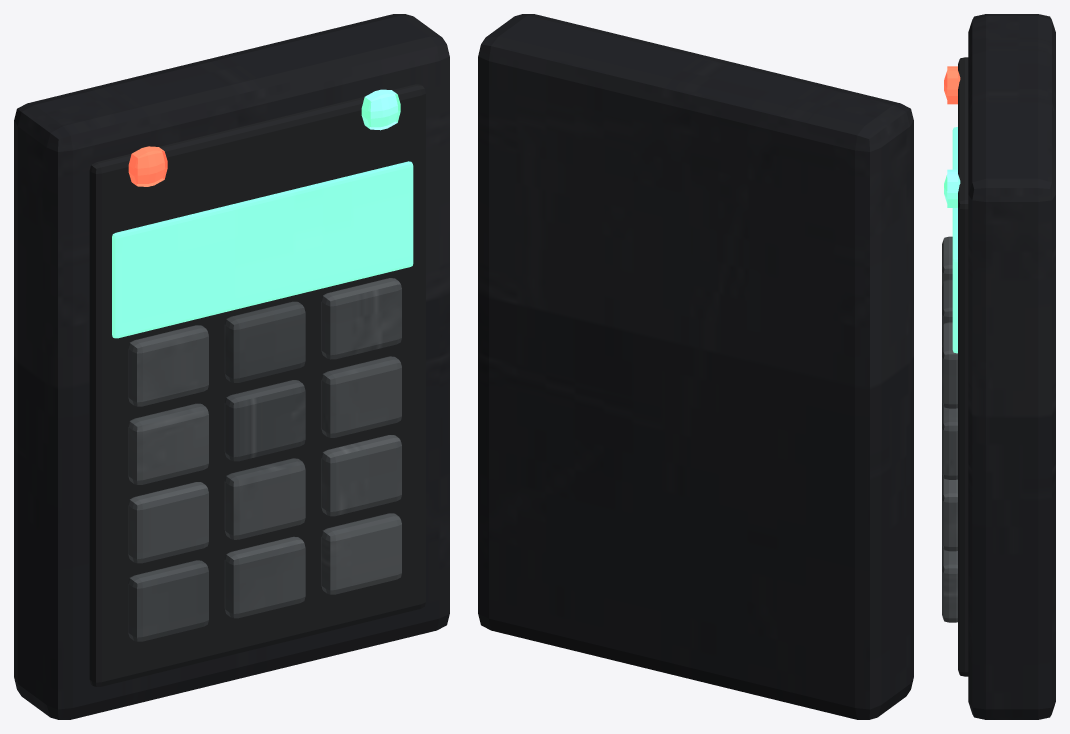
The model's file is keypad_panel.glb.
3 renders of one model, left to right at view 1: azimuth 30°, elevation 25°; view 2: azimuth 150°, elevation 25°; view 3: azimuth 270°, elevation 25°, orthographic. The views are drawn at different scales.
Parts seen in each view (by area): view 1: body; view 2: body; view 3: body.
Part boxes in pixels (x1,y1,x2,y2): body: (14,14,449,719); body: (478,14,913,719); body: (942,14,1055,719).
Bounding box in the file's own units: 0.24 × 0.34 × 0.065.
Materials: 6 (3 with a texture image).
